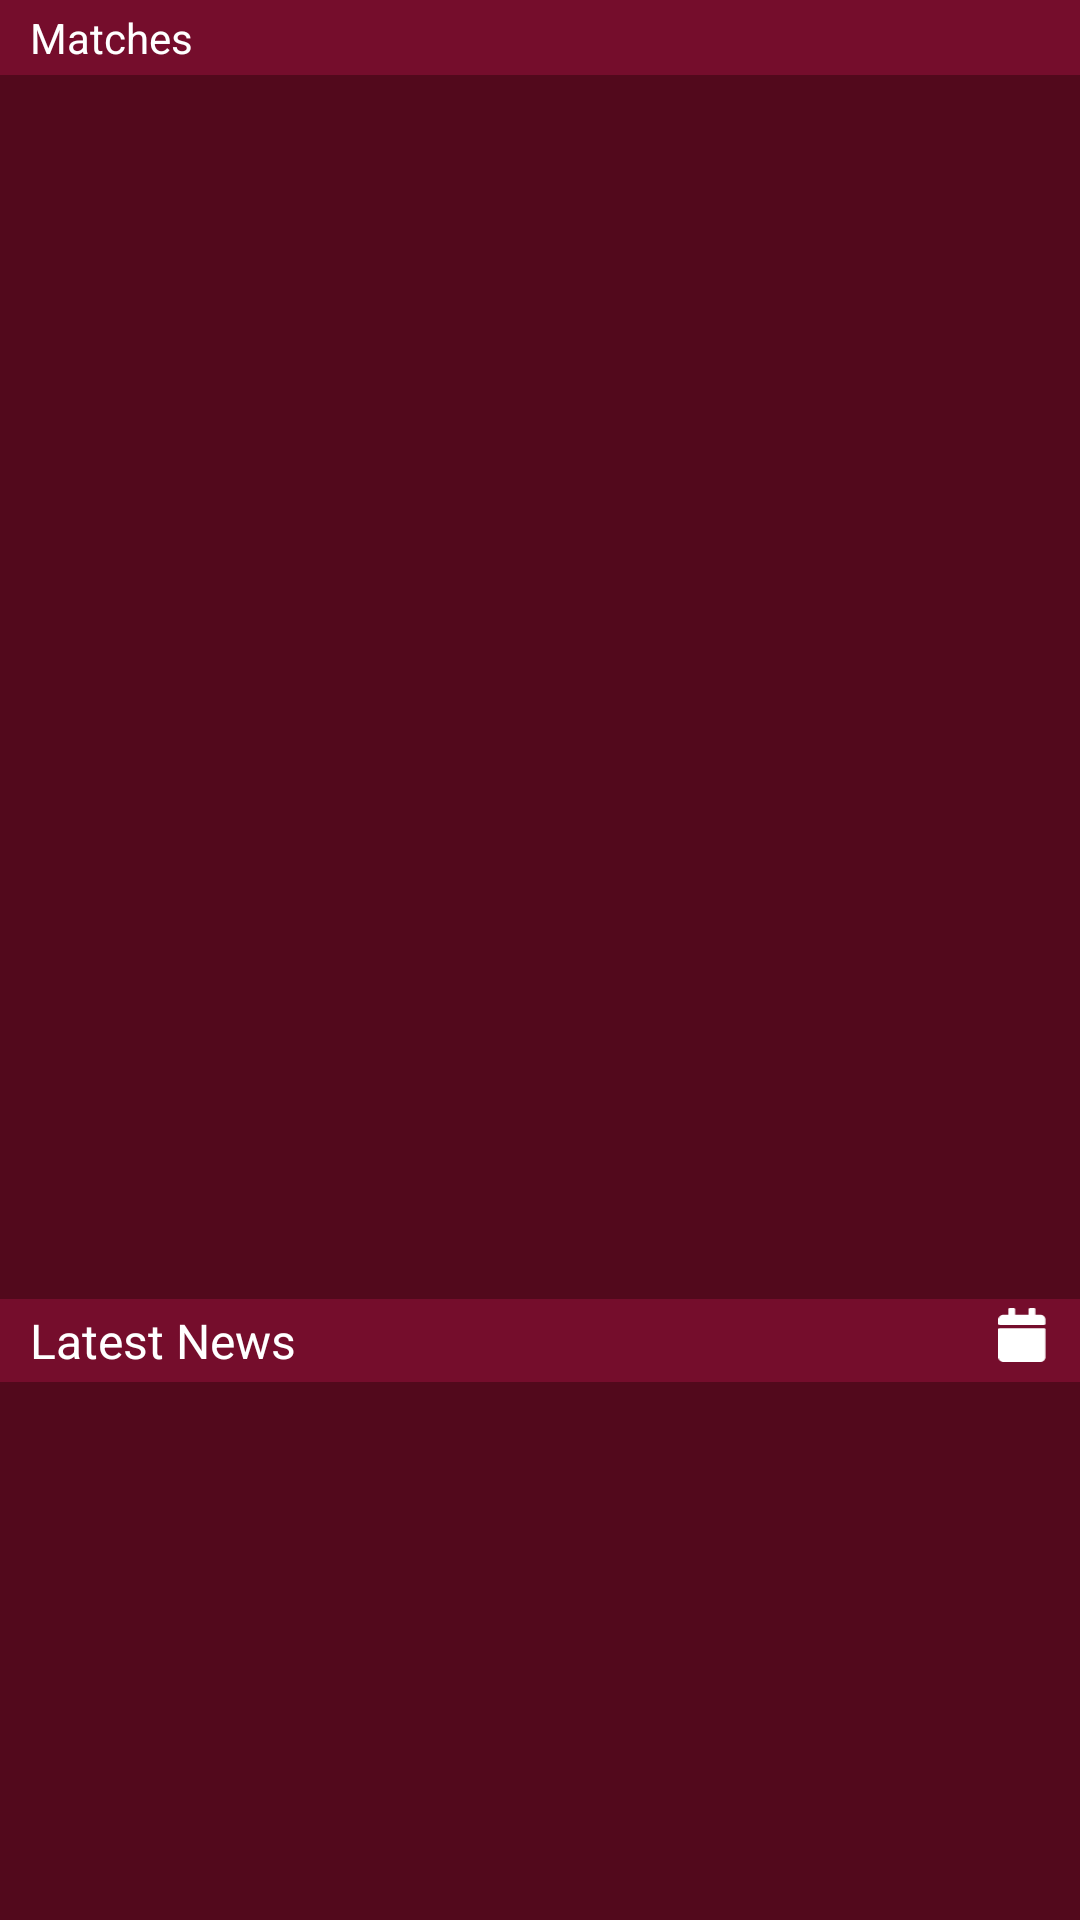

Locate icon controls on the screen. Image size 1080*1920, boxes as (left=x1, top=y1, right=x2, bottom=y2).
calendar: (left=998, top=1308, right=1046, bottom=1362)
